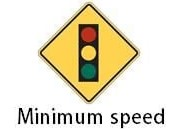Traffic signal: (38, 1, 140, 103)
